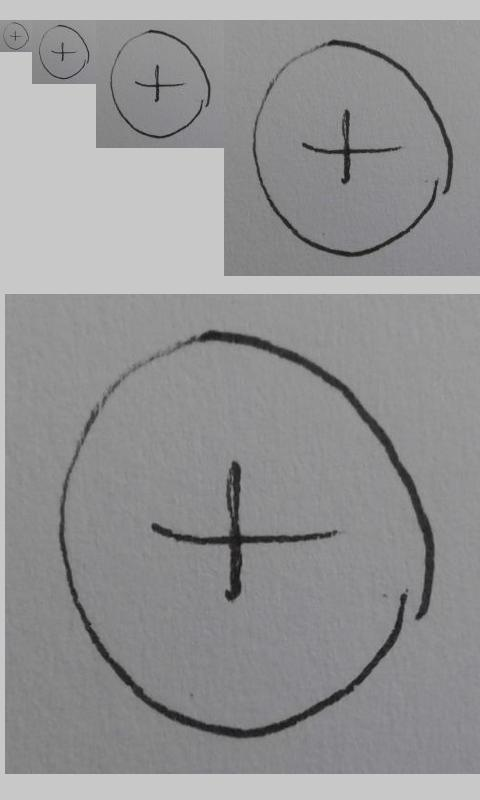button: (56, 330, 437, 741), (251, 39, 454, 259), (110, 29, 211, 139), (38, 24, 90, 80), (2, 22, 29, 50)
